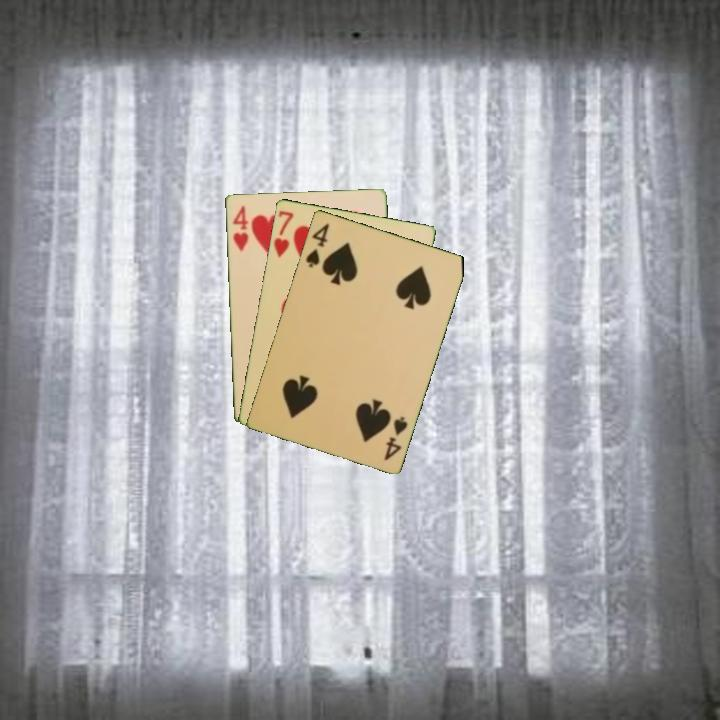4h: (229, 202, 251, 254)
4s: (302, 219, 332, 270), (380, 413, 410, 463)
7h: (270, 207, 296, 260)
